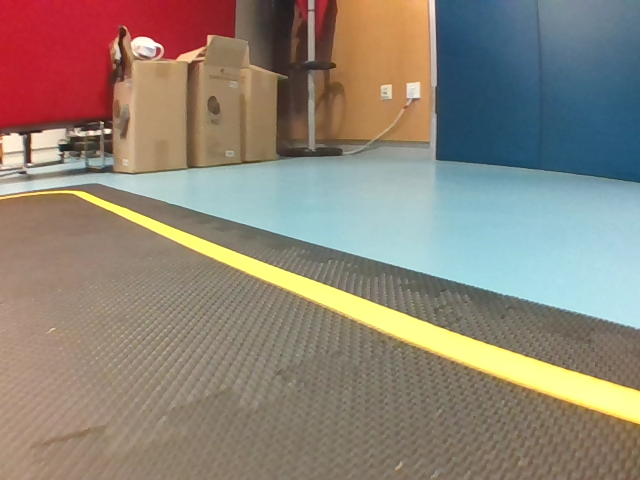no30: (244, 106, 268, 138)
